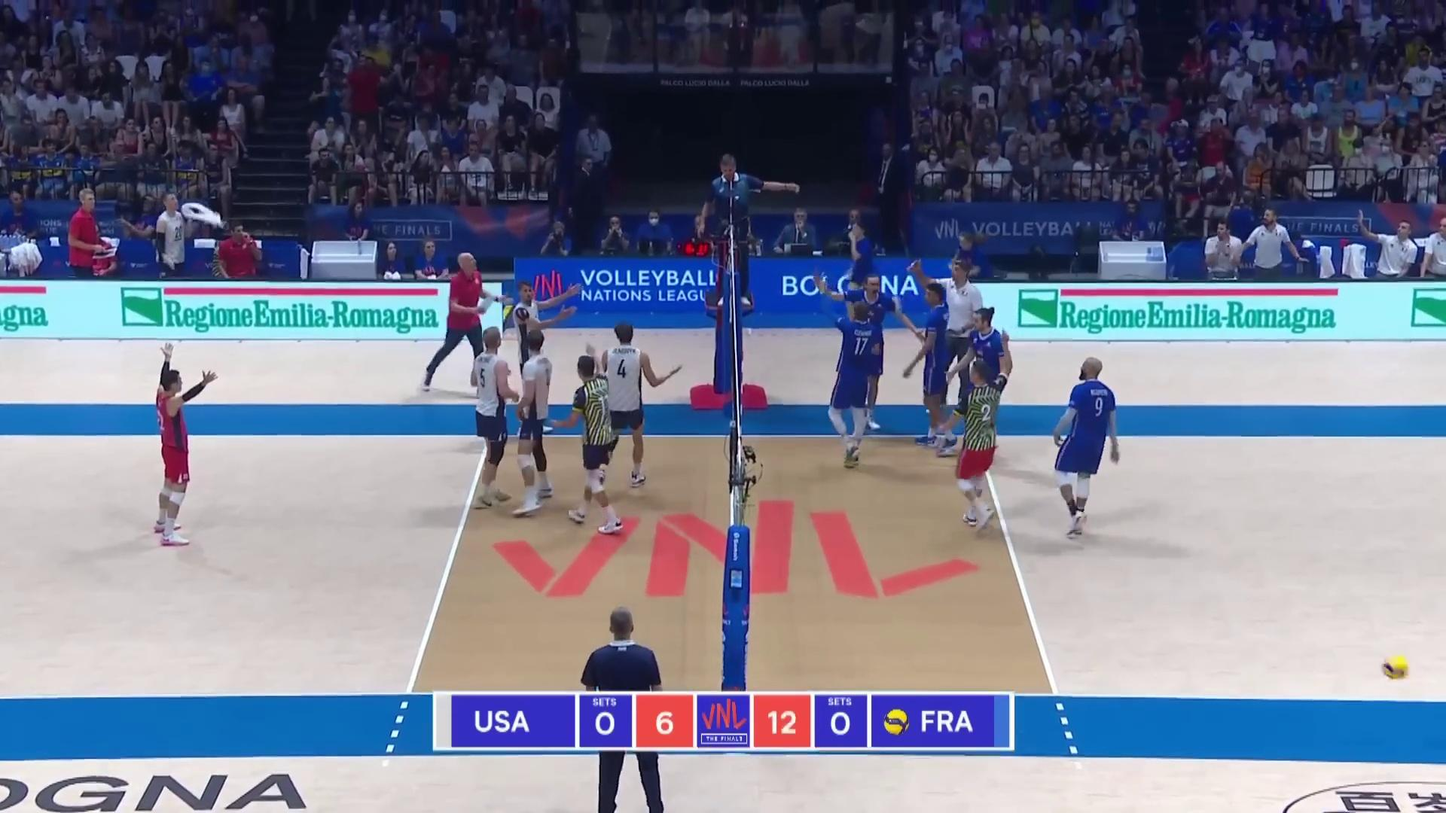player: (598, 318, 671, 490), (151, 348, 214, 545), (553, 355, 621, 529), (1057, 361, 1123, 540), (471, 330, 526, 518), (514, 281, 580, 434), (823, 301, 883, 468), (950, 365, 1007, 530), (512, 329, 555, 516), (917, 285, 954, 457), (959, 308, 1013, 394)
refree: (584, 612, 668, 813), (585, 614, 668, 753), (705, 151, 771, 309)
